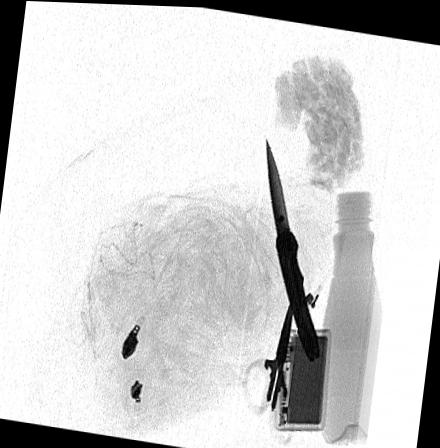Knife: (264, 132, 318, 360)
Powerbank: (275, 326, 329, 429)
Scissors: (239, 288, 294, 440)
